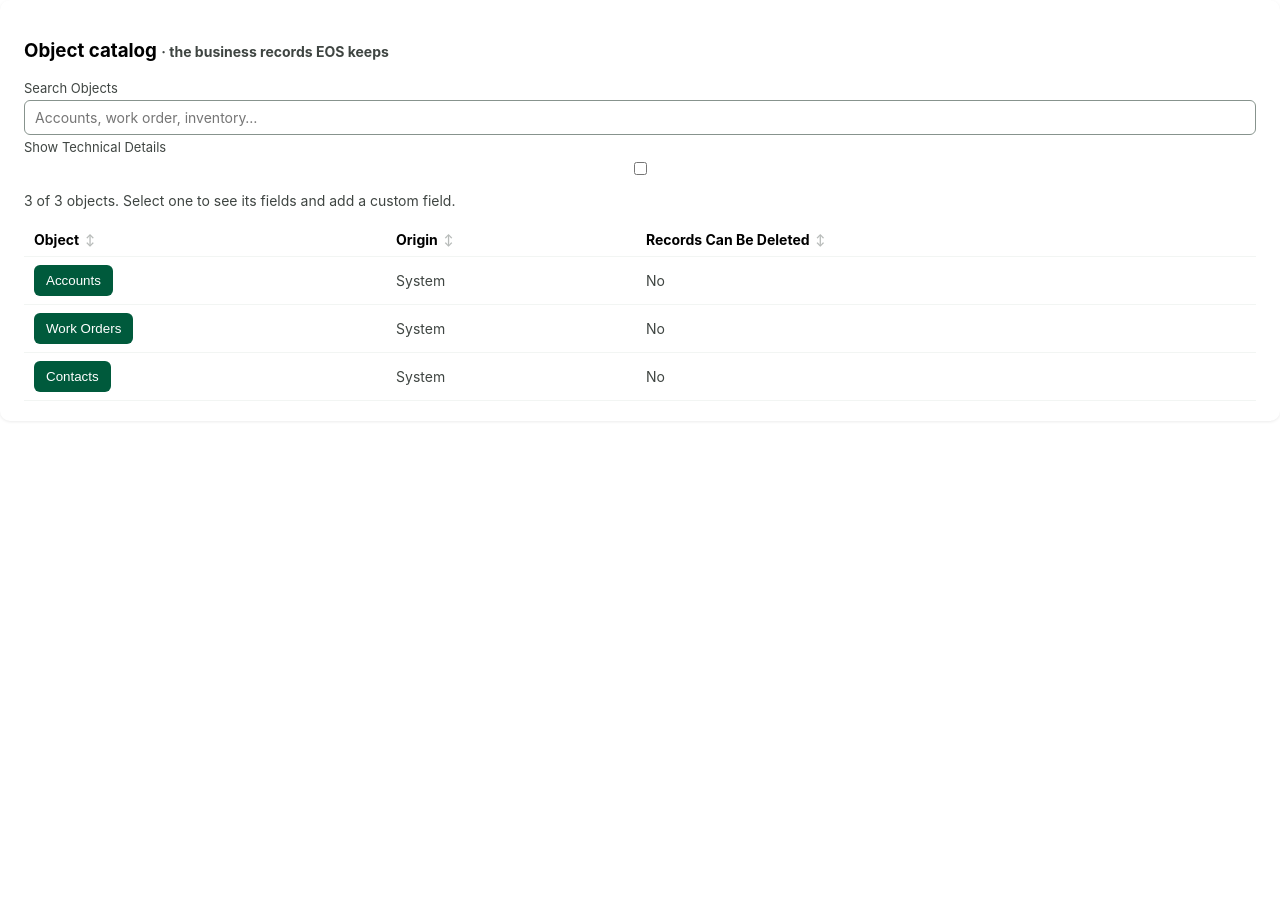
Objects catalog › creates a Reference field by choosing the target object by name, as a Draft
Click the button "Accounts" at (73, 281), box x1=34 y1=265 x2=113 y2=296
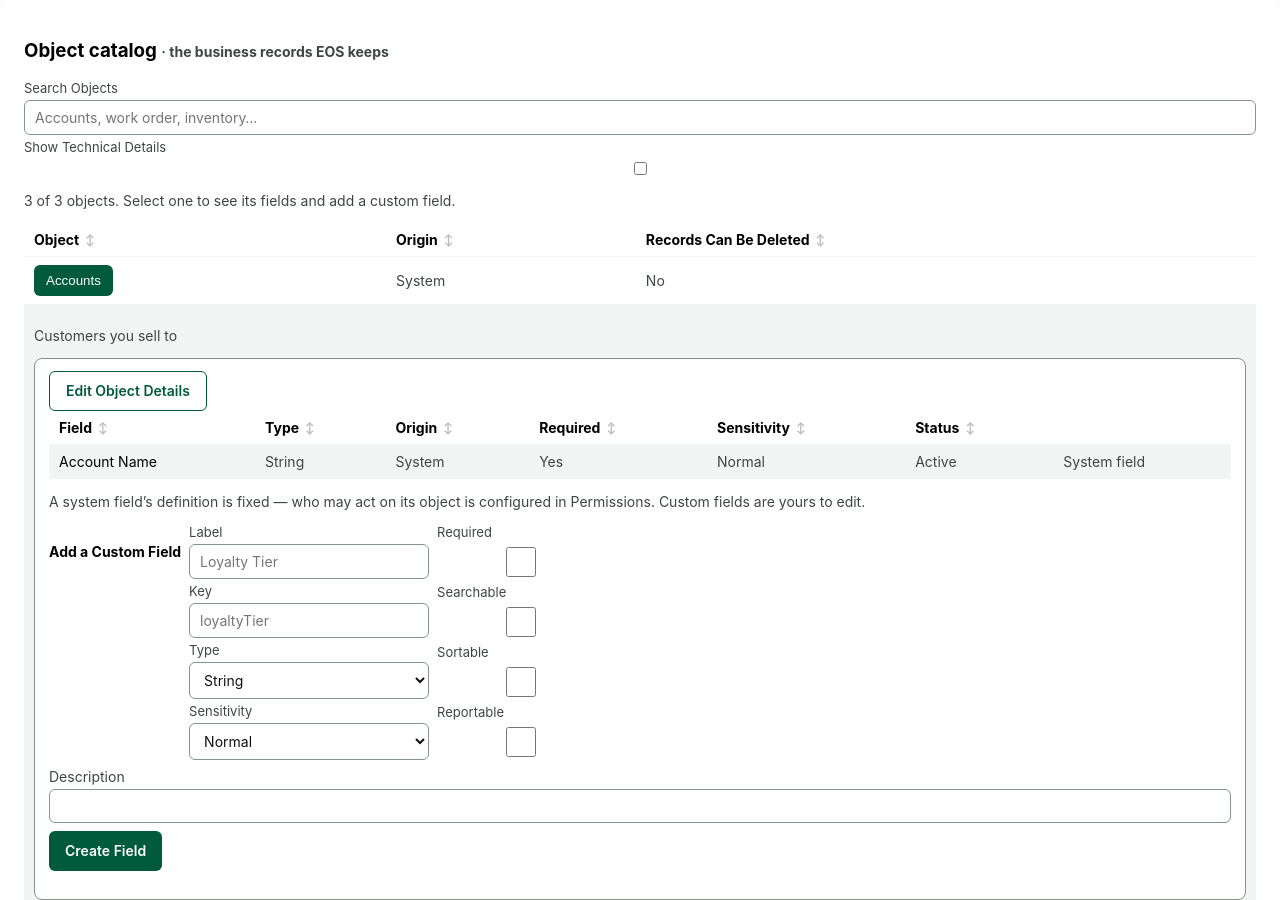
Type "Service Contract" into the field labelled "Label" at (309, 562), box x1=189 y1=544 x2=429 y2=579
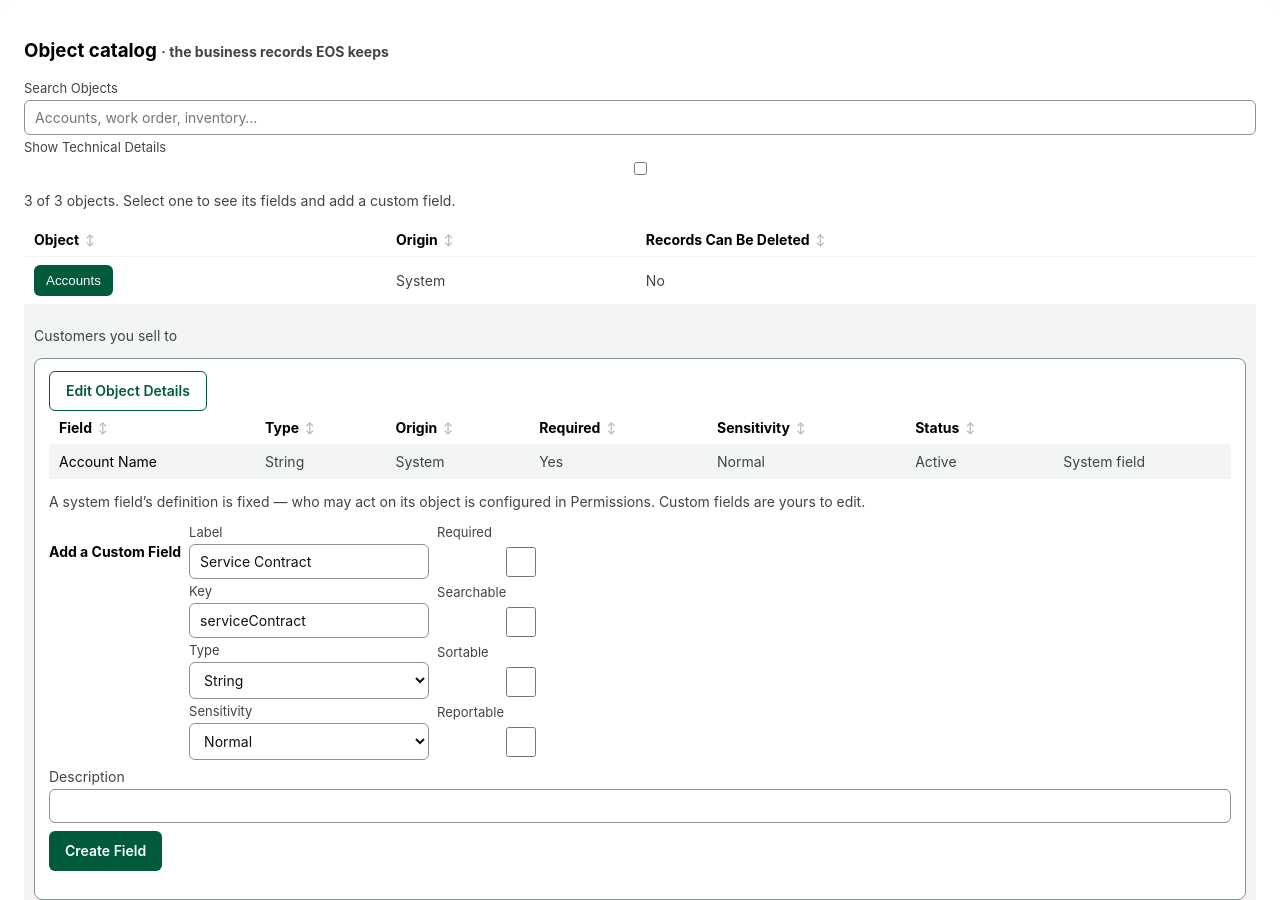
Result: the field labelled "Key" holds "serviceContract" at x1=189 y1=603 x2=429 y2=638
Select "Reference" in the dropdown labelled "Type" at (309, 681), box x1=189 y1=662 x2=429 y2=699
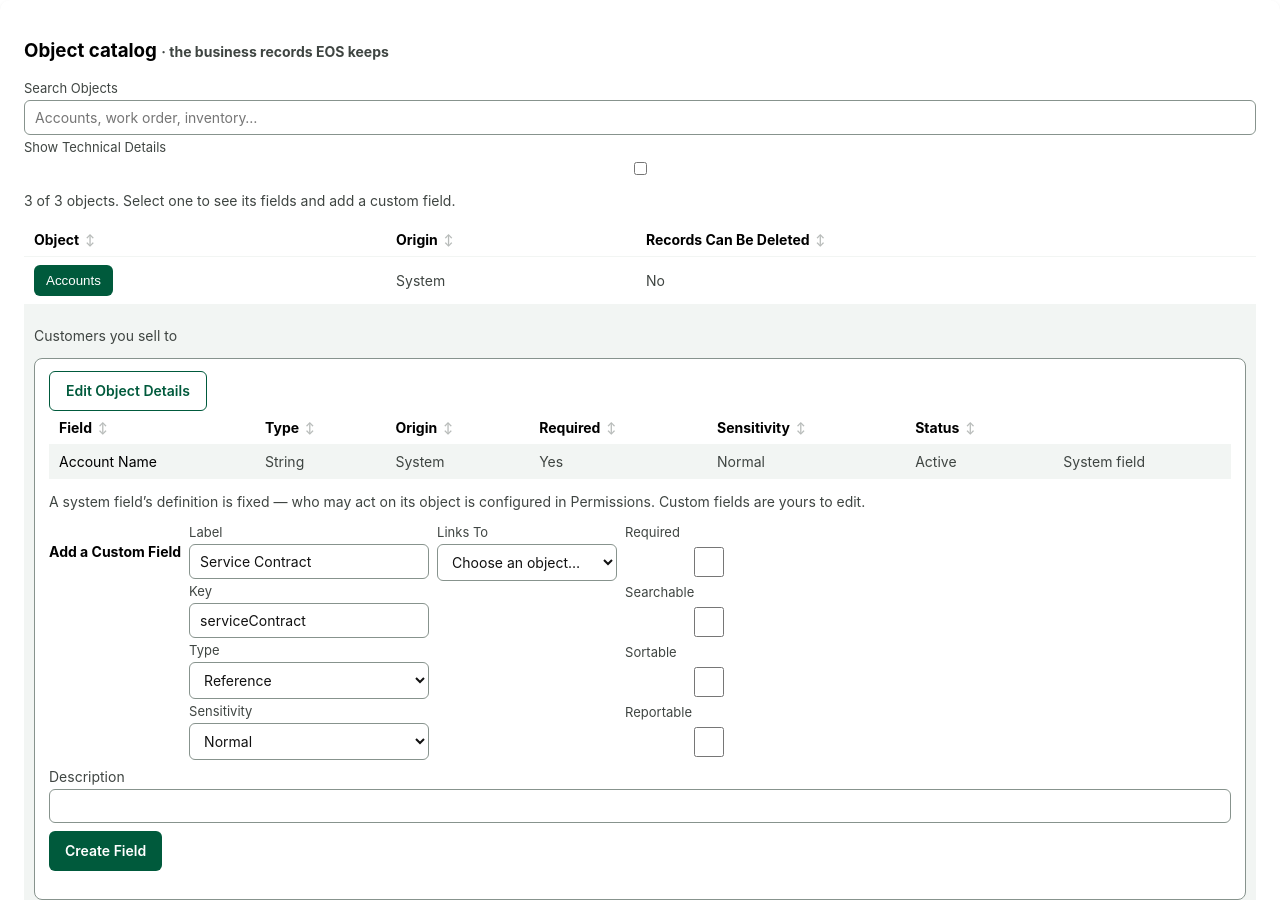
Select "Contacts" in the dropdown labelled "Links To" at (527, 563), box x1=437 y1=544 x2=617 y2=581
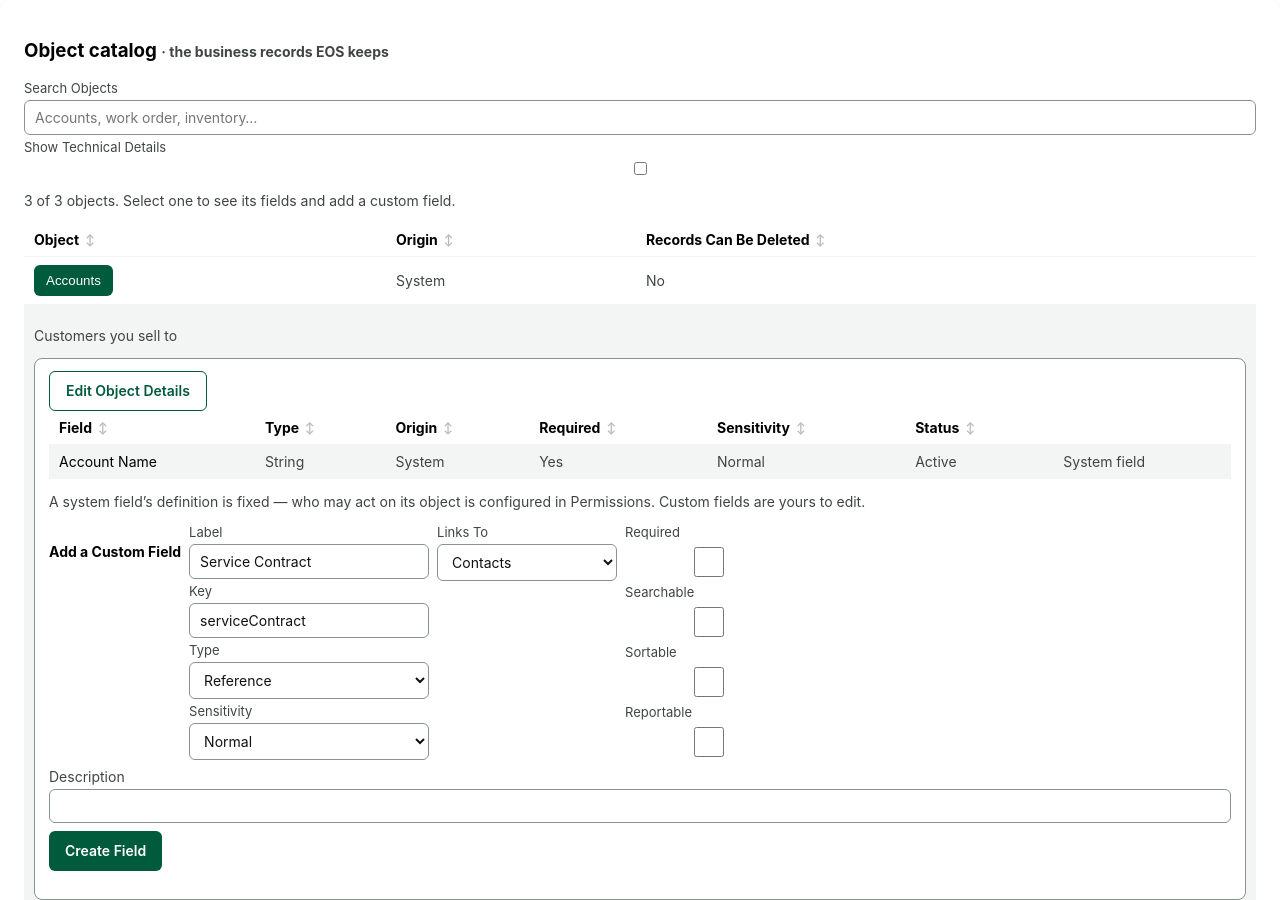
Submit the form named "Create a custom field", box x1=49 y1=524 x2=1231 y2=871
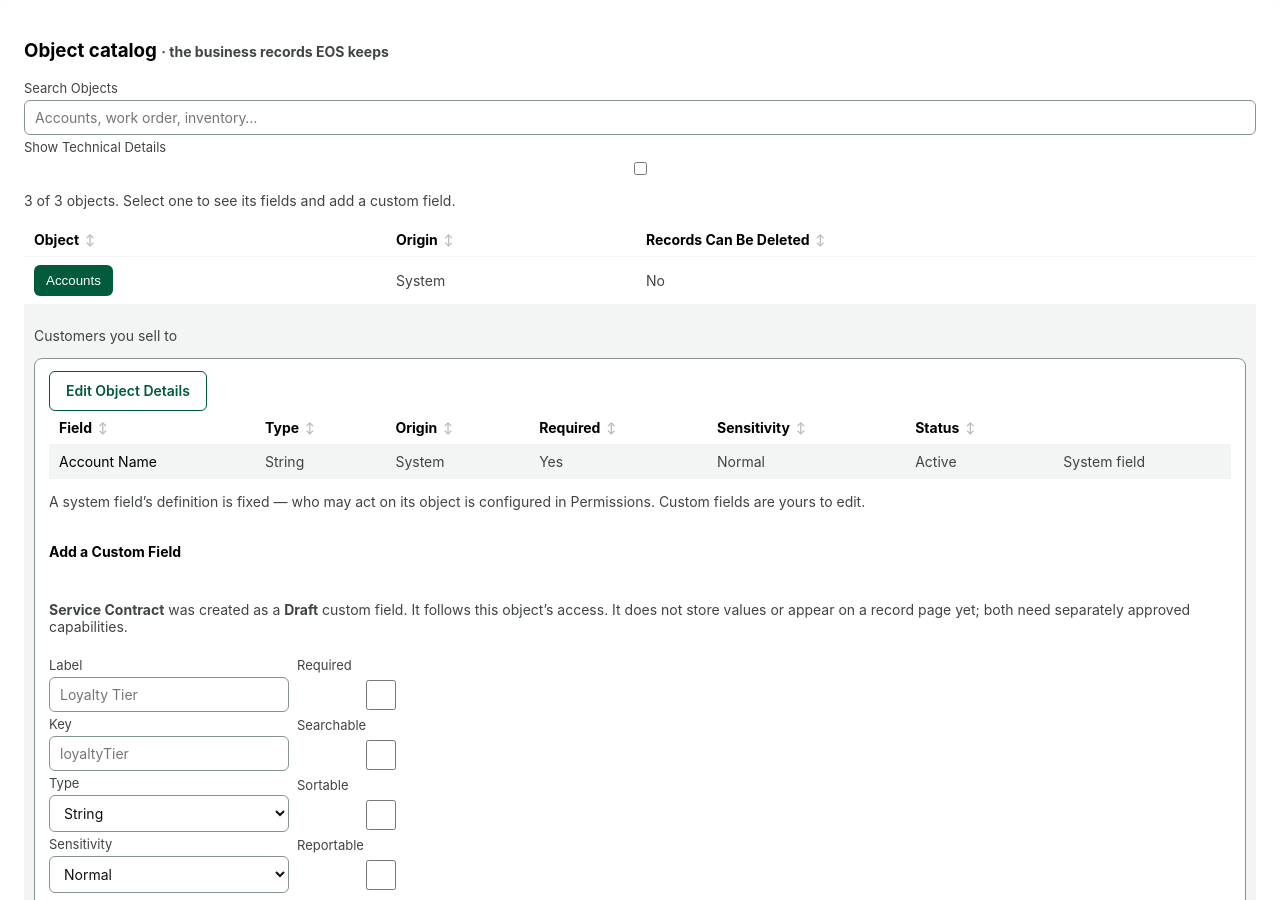
Result: the message is shown at x1=49 y1=601 x2=1231 y2=635
Result: the message shows "Draft" at x1=284 y1=601 x2=318 y2=618
